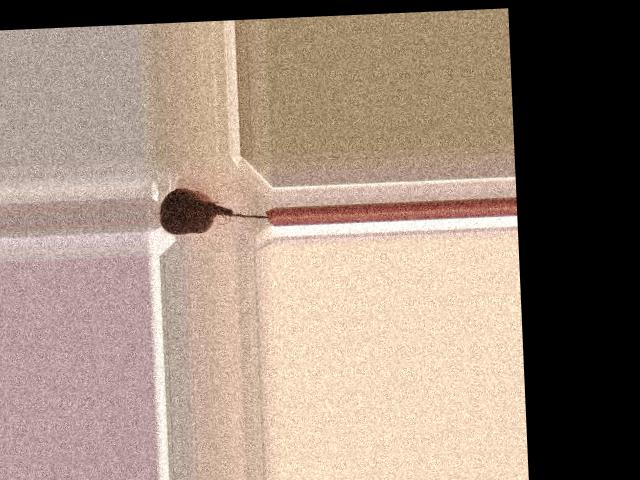beet: (158, 184, 270, 234)
